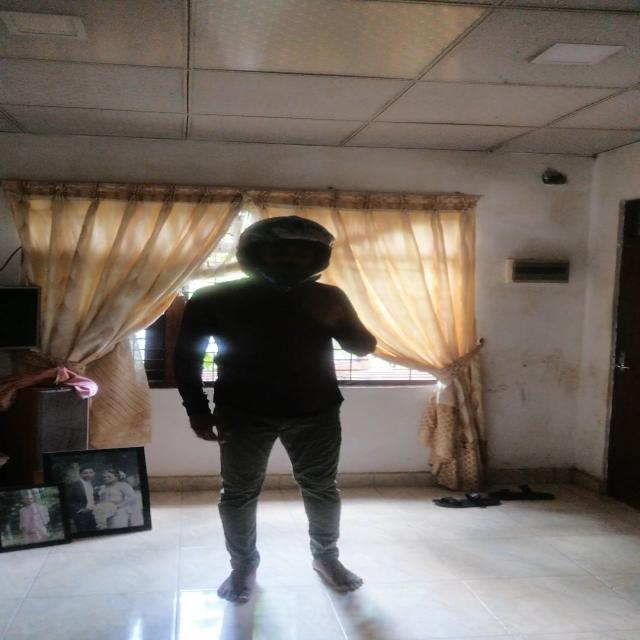Helmet_Wearer: (230, 214, 336, 294)
Person: (172, 215, 392, 607)
